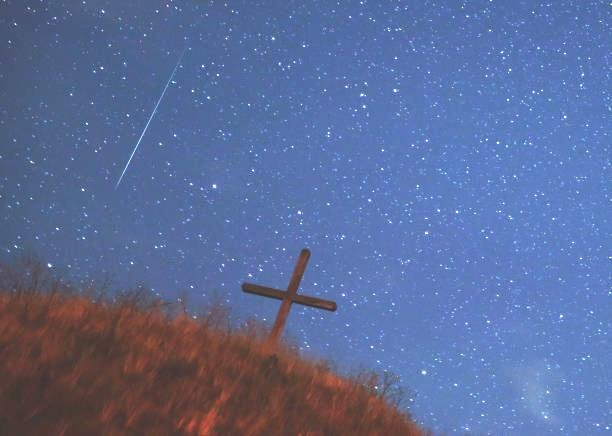meteorite: (105, 71, 180, 194)
